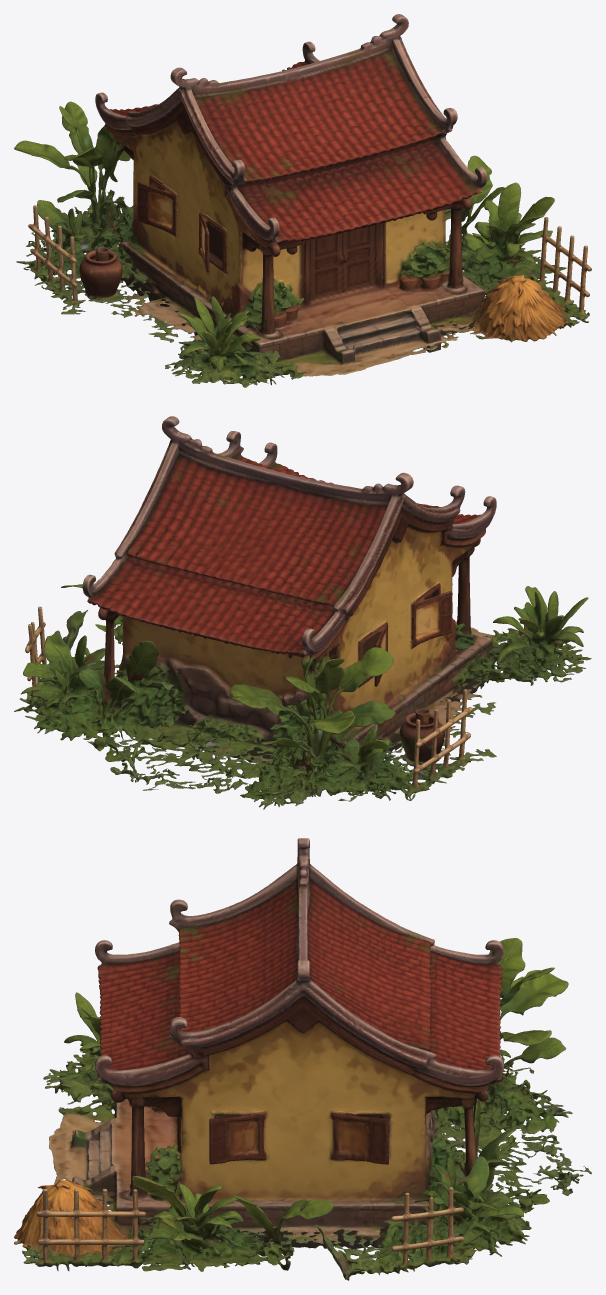
File: Meshy_AI_Terracotta_Village_Ho_1009041011_texture.glb
The picture shows the model from 3 angles, top to bottom: view 1: azimuth 30°, elevation 25°; view 2: azimuth 150°, elevation 25°; view 3: azimuth 270°, elevation 25°; orthographic projection. The views are drawn at different scales.
Size of the model in its own units: 1.73 by 0.9995 by 1.81.
1 material, 1 textured.
